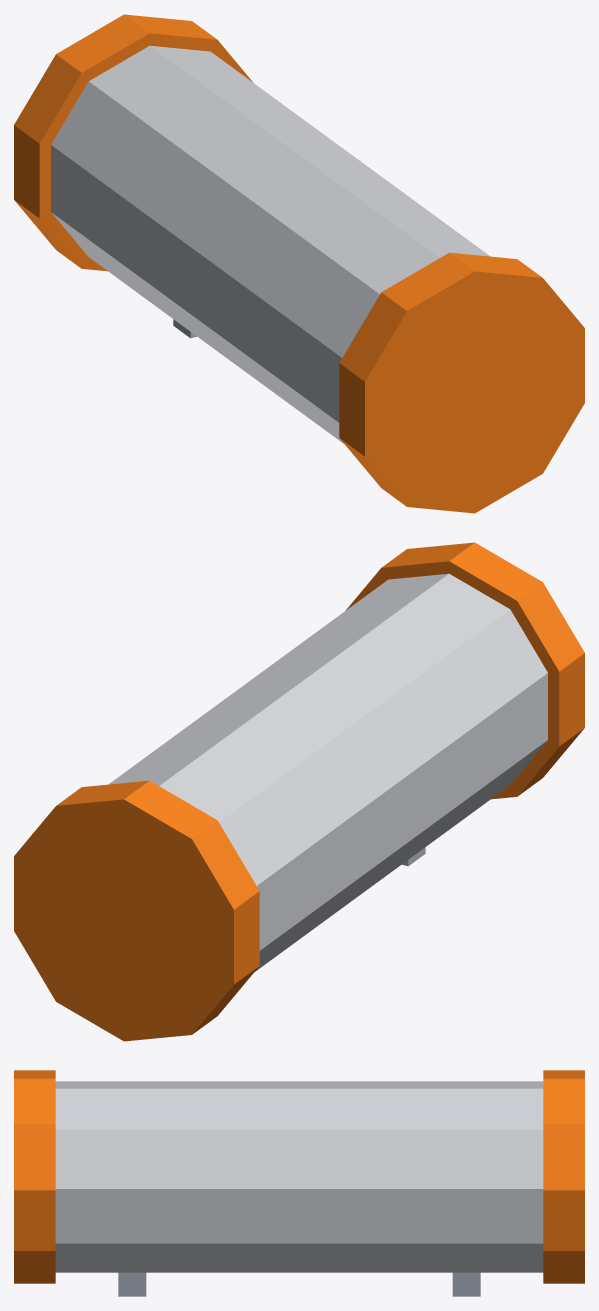
Rendered from lunar-connector-tube.glb.
The picture shows the model from 3 angles, top to bottom: view 1: azimuth 30°, elevation 25°; view 2: azimuth 150°, elevation 25°; view 3: azimuth 270°, elevation 25°; orthographic projection. The views are drawn at different scales.
Visible parts, largest first — view 1: connector_tube; view 2: connector_tube; view 3: connector_tube.
Part boxes in pixels (<box>): connector_tube: <box>14,14,584,513</box>; connector_tube: <box>14,542,584,1041</box>; connector_tube: <box>14,1070,584,1296</box>.
Bounding box in the file's own units: 1.48 × 1.68 × 4.1.
